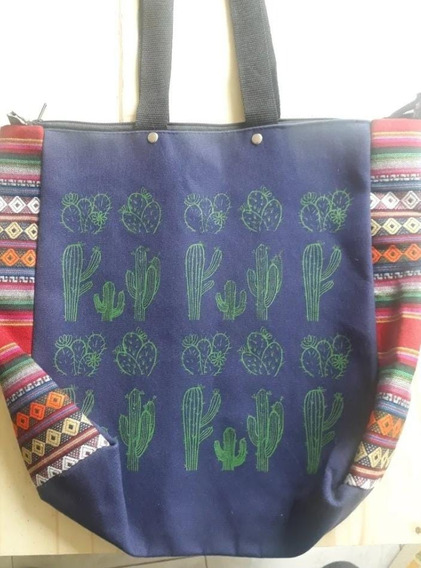cartera: (2, 1, 421, 561)
